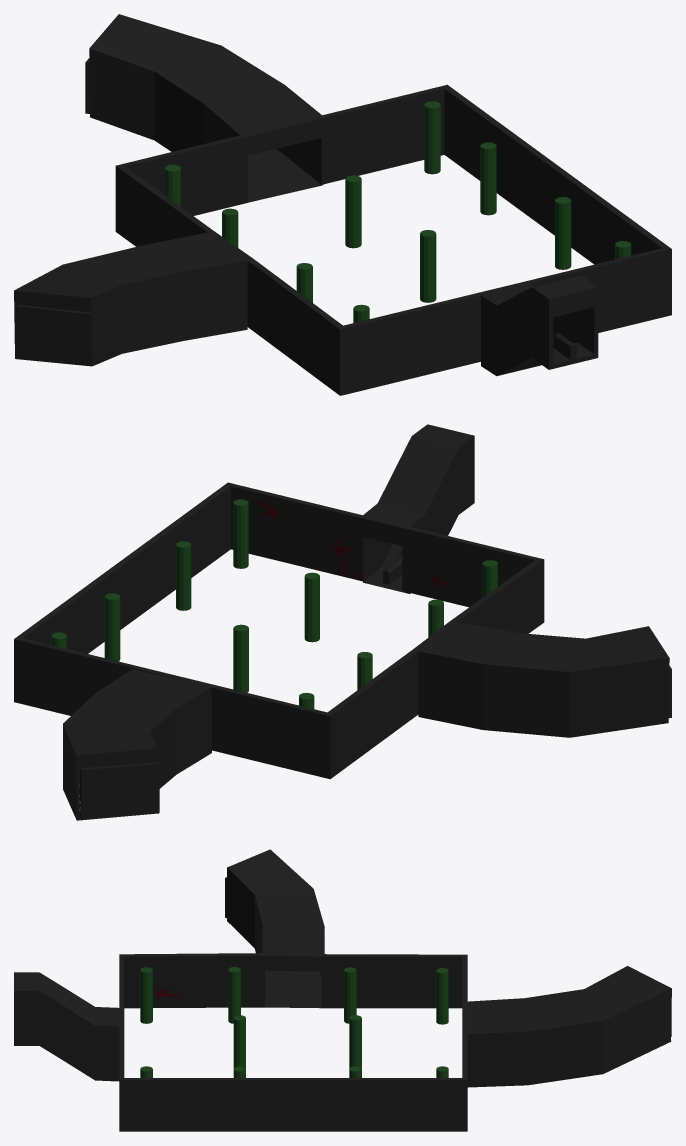
Rendered from pilares_parede_-1.fbx.
The picture shows the model from 3 angles, top to bottom: view 1: azimuth 30°, elevation 25°; view 2: azimuth 150°, elevation 25°; view 3: azimuth 270°, elevation 25°; orthographic projection. The views are drawn at different scales.
Visible parts, largest first — view 1: paredes, paredes.001; view 2: paredes, paredes.001; view 3: paredes, paredes.001.
Boxes of the visible parts, x1,y1,x2,y2 form: paredes: [14, 14, 671, 395]; paredes.001: [164, 101, 631, 322]; paredes: [14, 424, 671, 820]; paredes.001: [51, 499, 497, 708]; paredes: [14, 849, 671, 1131]; paredes.001: [140, 966, 448, 1077].
Bounding box in the file's own units: 79.83 × 15.87 × 105.
